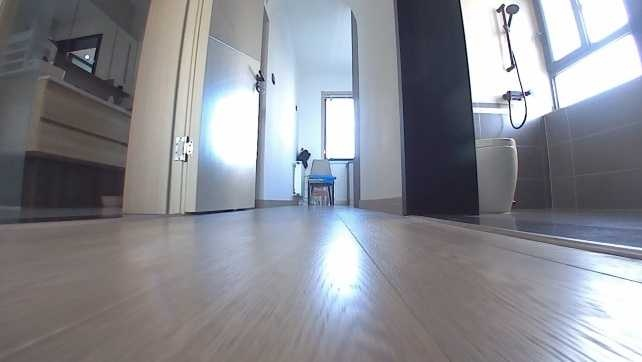door_anno: (126, 0, 267, 218)
door_sill: (412, 211, 641, 261)
toilet: (474, 135, 518, 214)
washstand: (27, 75, 132, 172)
